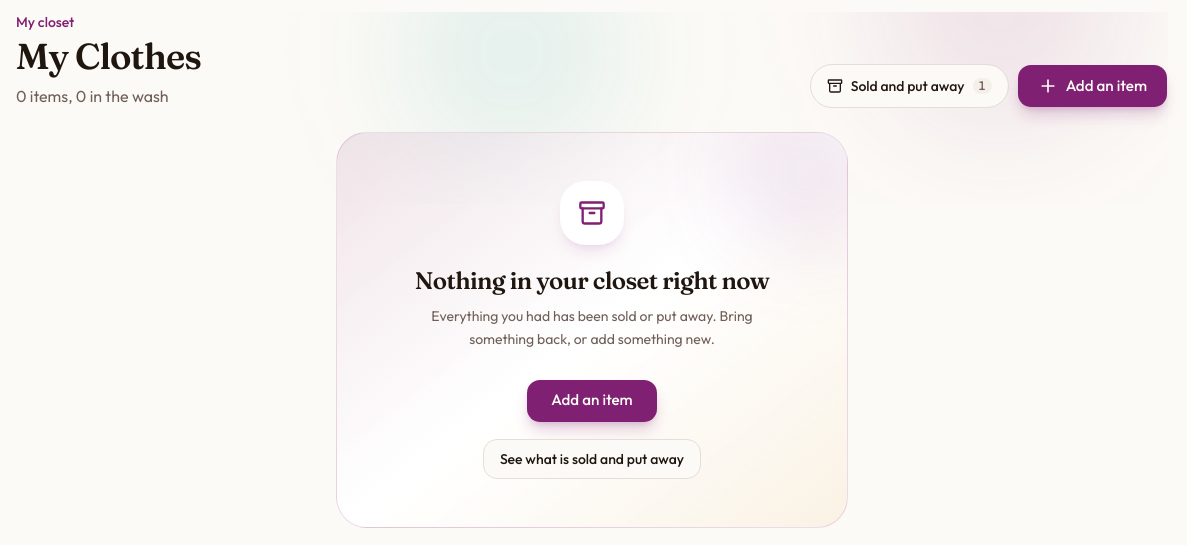
Scenario: ClosetPage › still lets that person reach what they sold
Check: the button "Sold and put away 1" is shown, box [810,64,1009,108]
Click the button "See what is sold and put away" at (592, 458), box [483,438,701,478]
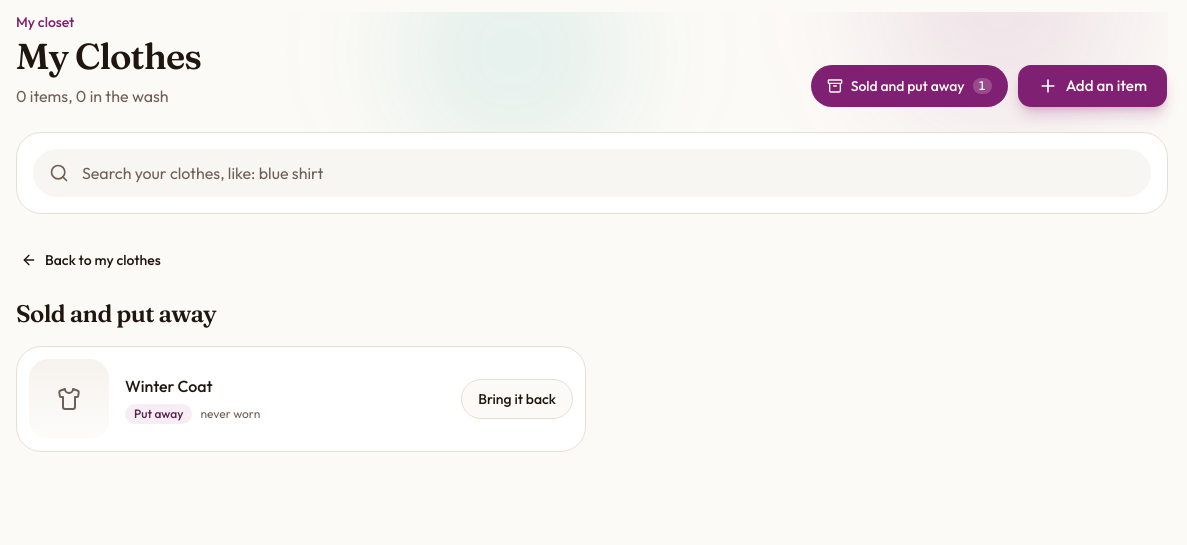
Check: the text "Winter Coat" is shown, box [125,376,213,396]
